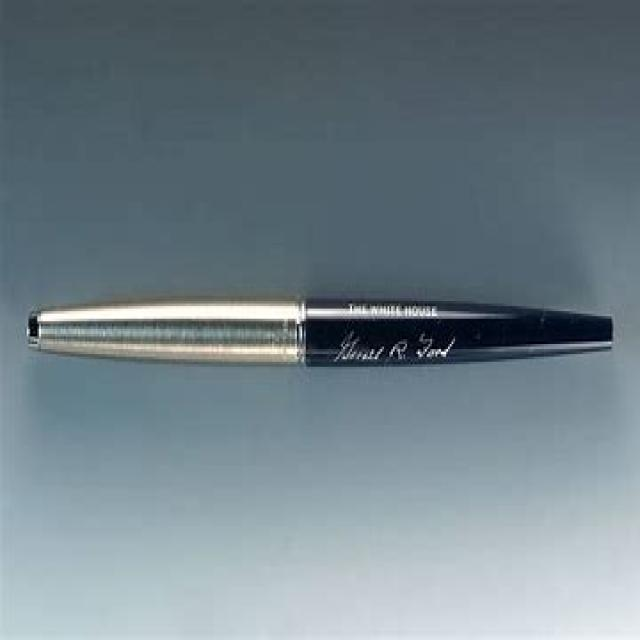pen: (26, 296, 619, 373)
